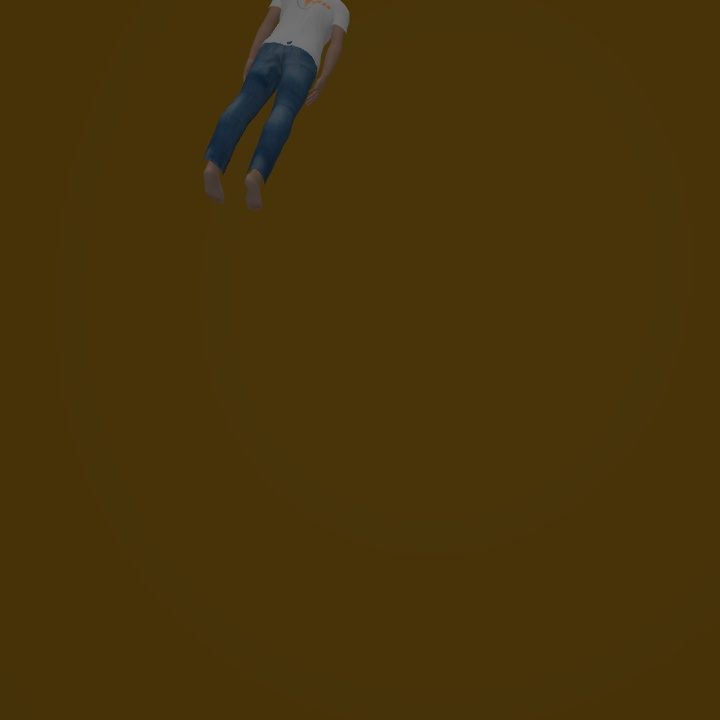victim: (201, 1, 348, 211)
